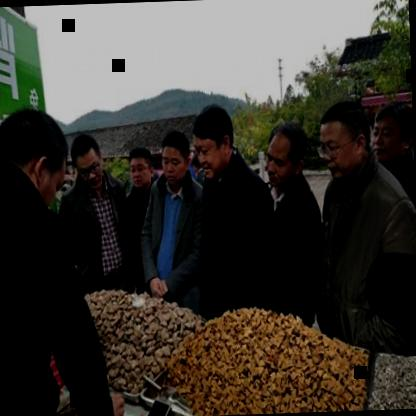head: (0, 106, 68, 208), (314, 94, 376, 184), (193, 99, 237, 183), (262, 121, 308, 188), (372, 102, 414, 166), (70, 128, 106, 190), (159, 128, 194, 190), (125, 142, 156, 192)
